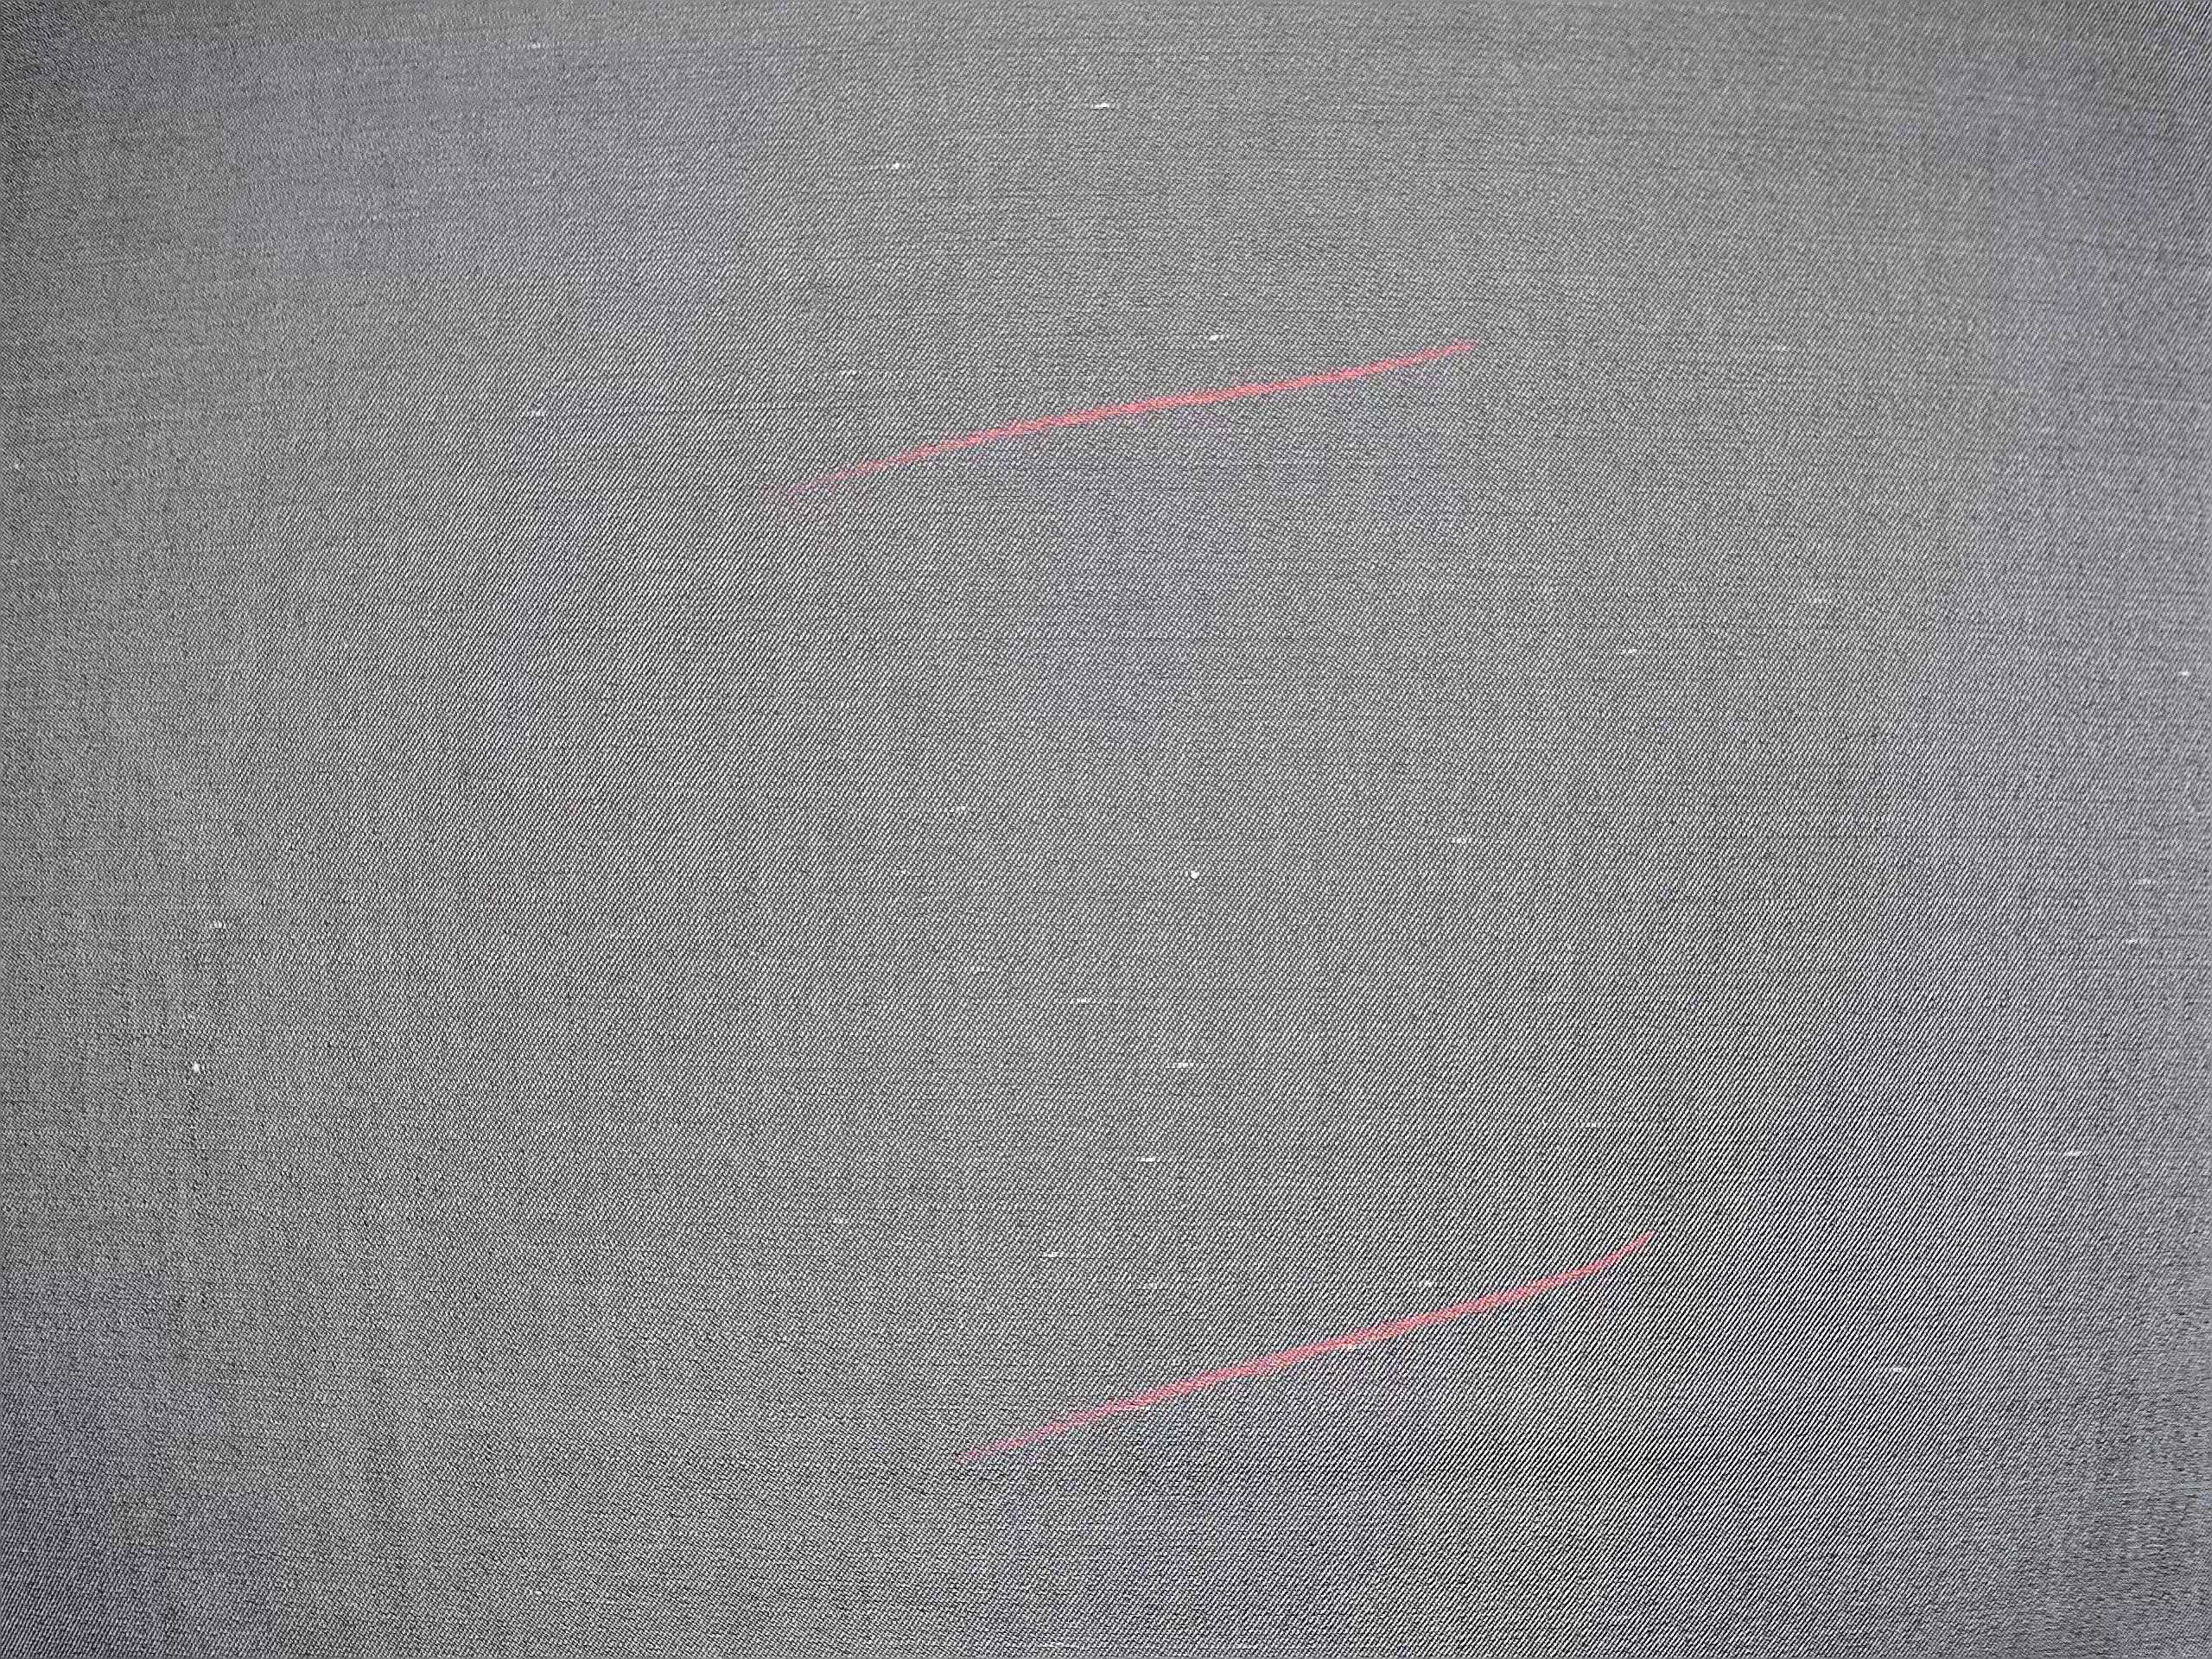others: (2106, 861, 2177, 971), (855, 146, 935, 186), (164, 1046, 219, 1100), (2050, 1131, 2101, 1180), (1069, 82, 1125, 124), (193, 908, 242, 946), (1122, 1145, 1183, 1175), (1151, 1053, 1216, 1080), (1197, 315, 1242, 352), (956, 953, 1010, 983), (1885, 1349, 1928, 1385), (937, 793, 991, 821), (1179, 857, 1212, 896), (1439, 826, 1489, 849), (1061, 988, 1104, 1014), (819, 1208, 857, 1236), (1029, 1244, 1083, 1263), (1331, 1337, 1372, 1361), (1609, 636, 1648, 660), (1406, 1272, 1442, 1295)
